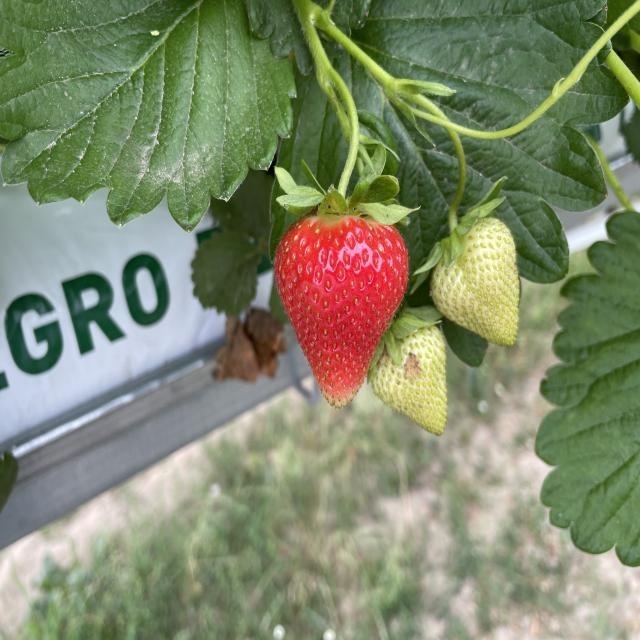stem: (279, 7, 415, 223), (420, 108, 502, 272)
strawberryNR: (432, 219, 517, 346), (371, 327, 447, 435)
strawberryR: (276, 216, 407, 404)
